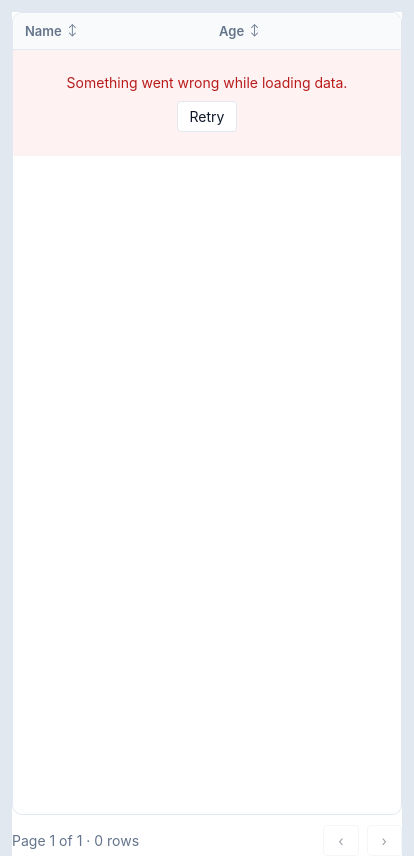
Test: <DataTable /> (react-native) — server mode › surfaces the error state + retry, and recovers on retry
This screenshot has width=414, height=856.
Expected: the text "Something went wrong while loading data." is shown, [67,74,347,91]
Click the button "Retry": (207,116) [176,101,237,132]
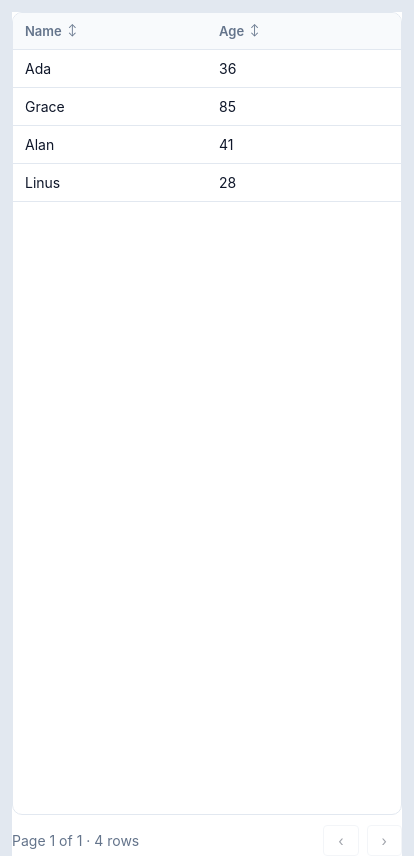
Result: the text "Ada" is shown at [25,60,51,77]
Result: the text "Something went wrong while loading data." is gone
